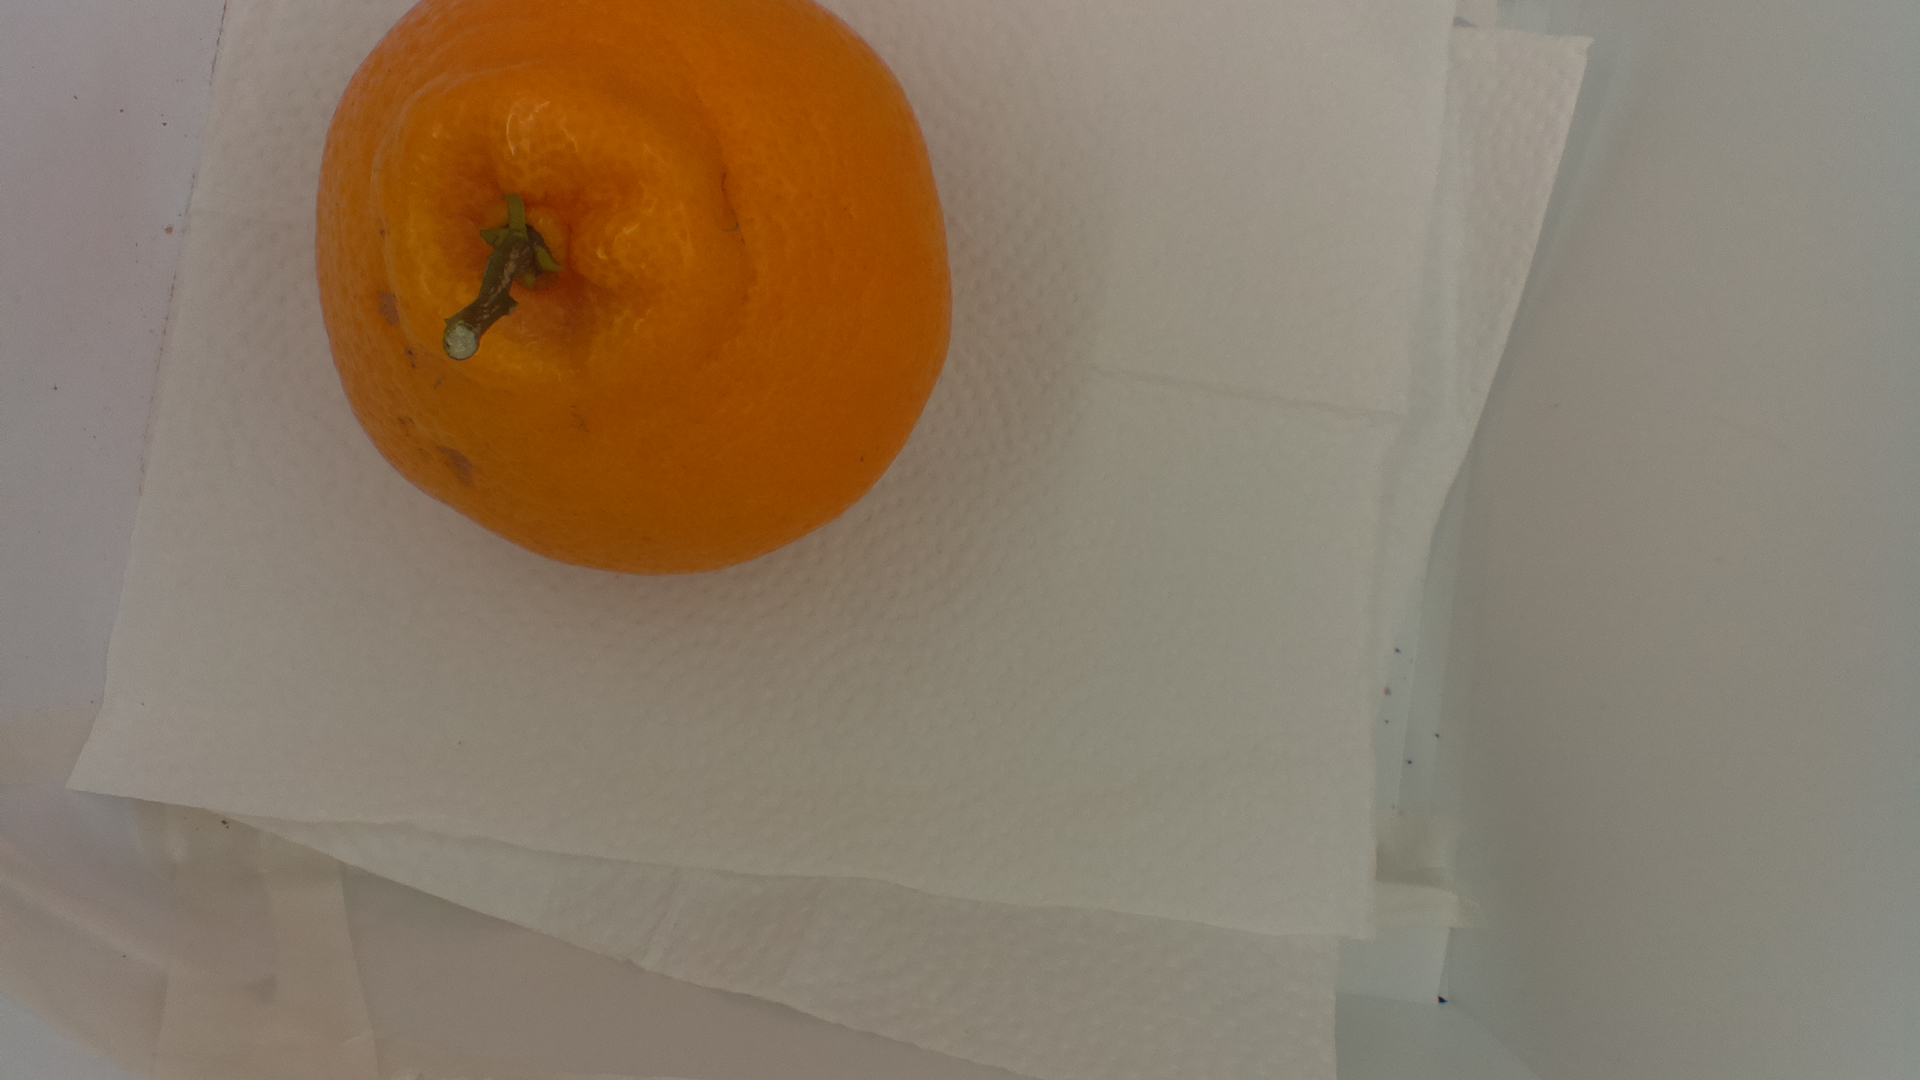fruit: (309, 1, 957, 583)
